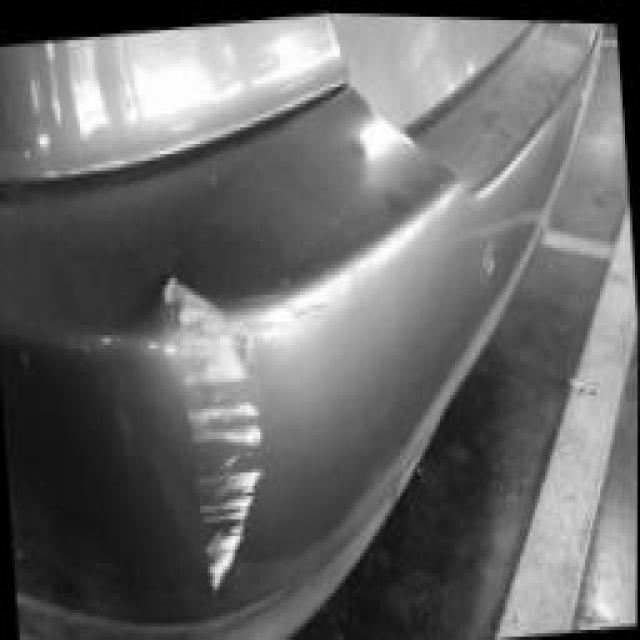Bumper: (132, 214, 342, 616)
